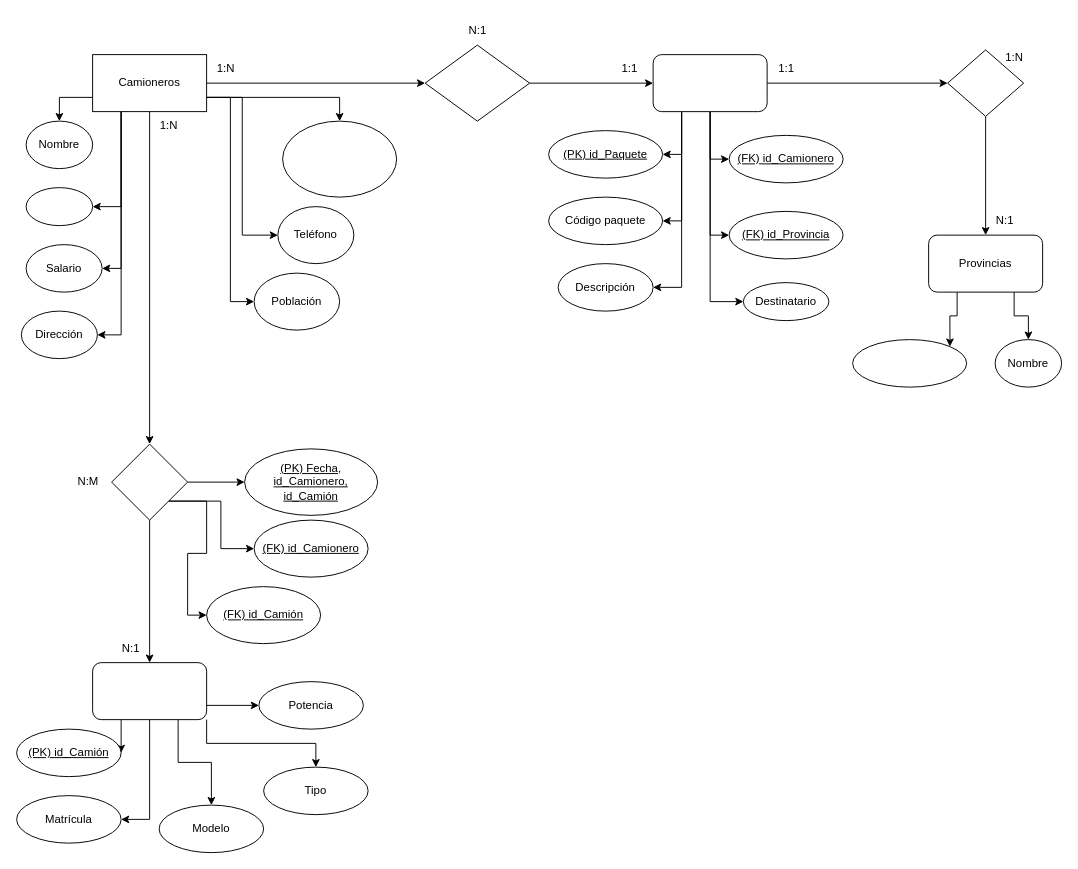
This 1078x869 diagram has some shape labels left out. The shapes that lost their labels are listed below. From the top down, each one's box as (x1, y1, x2, y2) in pixels, then its label:
(424, 44, 530, 121): Distribuyen
(652, 54, 767, 112): Paquetes
(947, 49, 1024, 116): Llegan a
(282, 120, 397, 197): (PK) id_Camionero
(25, 187, 93, 226): DNI
(852, 339, 967, 387): (PK) id_Provincia
(111, 443, 188, 520): Llevan
(92, 662, 207, 720): Camiones
